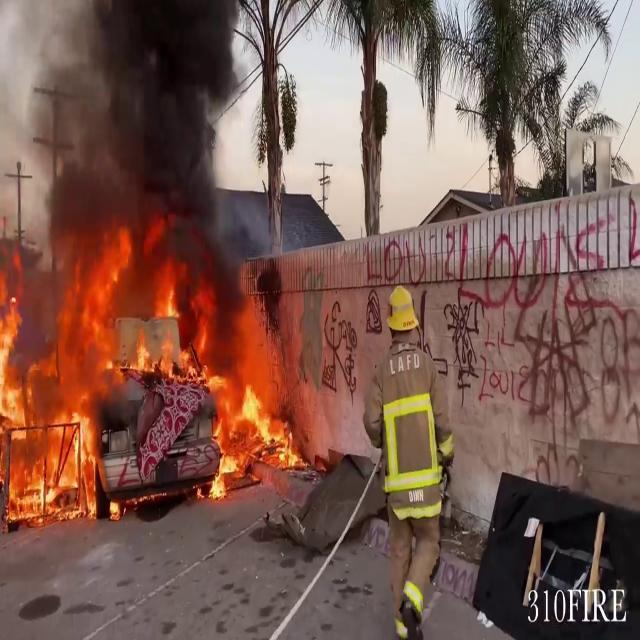Fire: (0, 233, 312, 515)
Smoke: (4, 0, 266, 252)
